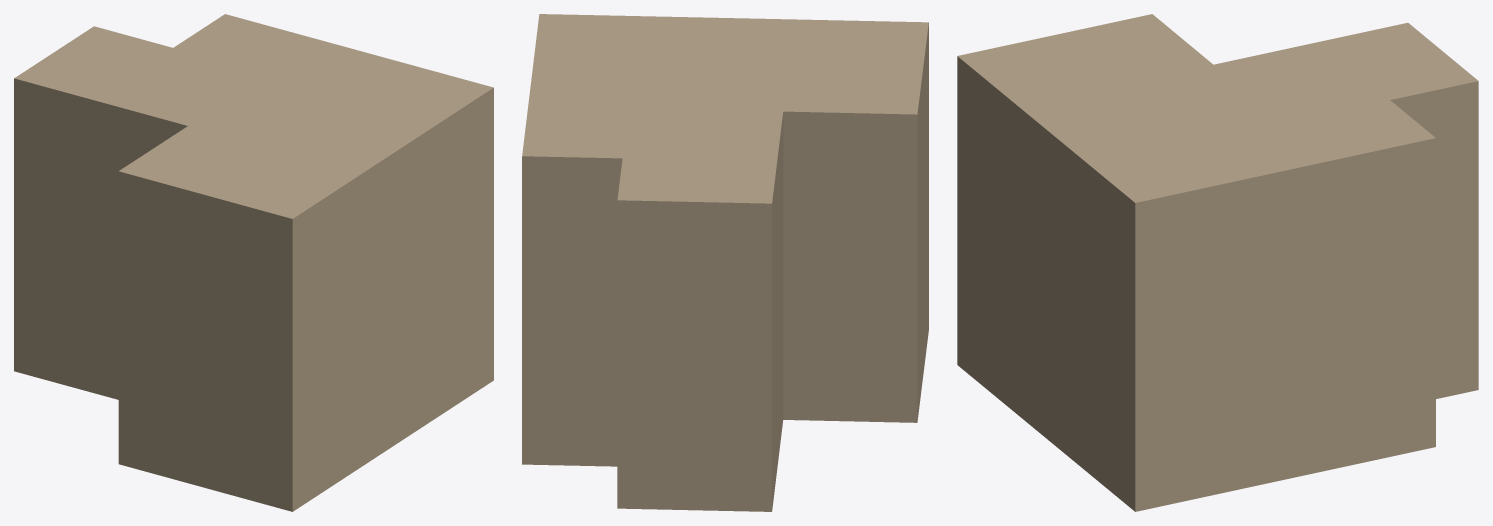
Rendered from bld_107610446.dae.
The picture shows the model from 3 angles, left to right: view 1: azimuth 30°, elevation 25°; view 2: azimuth 150°, elevation 25°; view 3: azimuth 270°, elevation 25°; orthographic projection. The views are drawn at different scales.
Parts seen in each view (by area): view 1: bld_107610446; view 2: bld_107610446; view 3: bld_107610446.
Boxes of the visible parts, x1,y1,x2,y2 form: bld_107610446: (14,14,493,511); bld_107610446: (522,14,928,511); bld_107610446: (957,14,1478,511).
Bounding box in the file's own units: 10.5 × 12.24 × 8.
